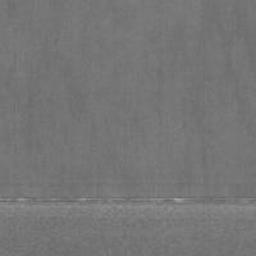Welding line: (0, 197, 256, 205)
